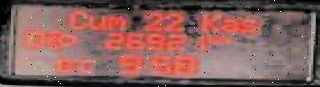0: (22, 28, 42, 47)
1: (195, 33, 204, 51)
2: (140, 10, 162, 30), (162, 11, 184, 30), (102, 30, 122, 49), (164, 32, 184, 51)
5: (146, 54, 171, 74)
6: (122, 31, 142, 50)
8: (171, 55, 195, 74), (53, 57, 71, 72)
9: (113, 52, 139, 72), (144, 32, 164, 49)
X: (62, 9, 86, 30), (198, 12, 220, 31), (86, 12, 104, 29), (238, 17, 258, 32), (75, 56, 93, 72), (106, 14, 124, 30), (220, 16, 238, 32), (215, 35, 231, 42), (206, 32, 215, 42)
